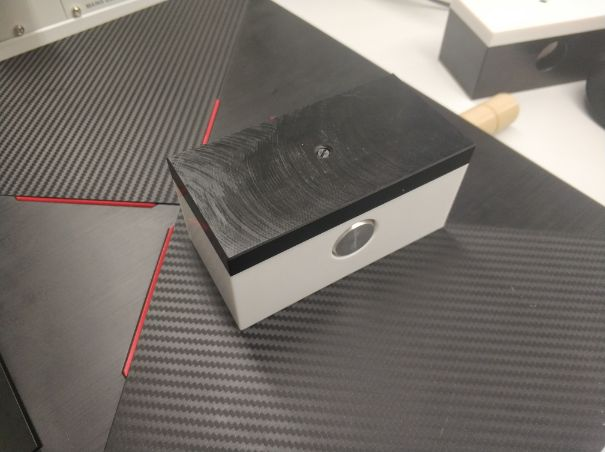black+white+silver: (163, 69, 479, 337)
